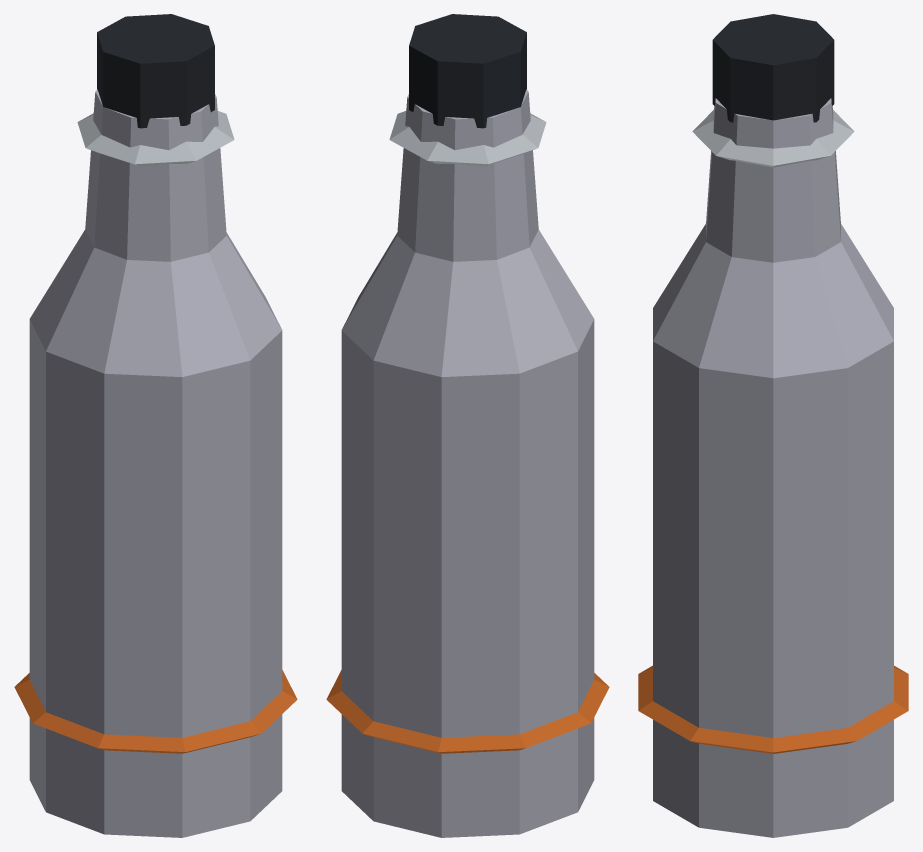
Rendered from tsiraki.glb.
3 renders of one model, left to right at view 1: azimuth 30°, elevation 25°; view 2: azimuth 150°, elevation 25°; view 3: azimuth 270°, elevation 25°, orthographic.
Visible parts, largest first — view 1: m; view 2: m; view 3: m.
Boxes of the visible parts, bbox=[...] form: m: bbox=[14, 14, 297, 837]; m: bbox=[326, 14, 609, 837]; m: bbox=[638, 14, 908, 837].
Bounding box in the file's own units: 0.056 × 0.162 × 0.0533.
